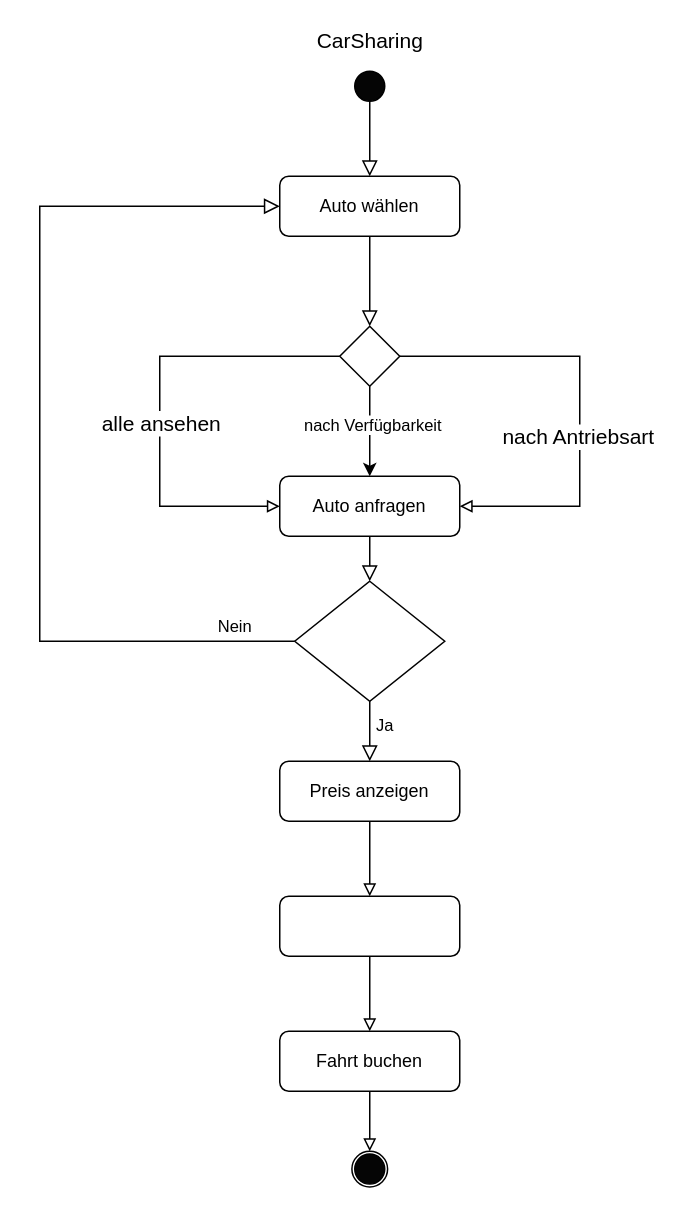
Some shapes in this 680 by 1214 pixel diagram are drawn without their labels. Here are the shapes that lost their labels. From the top down, the centre of each, then its label:
the point at 369,640: Auto vorhanden?
the point at 369,925: Anmelden
